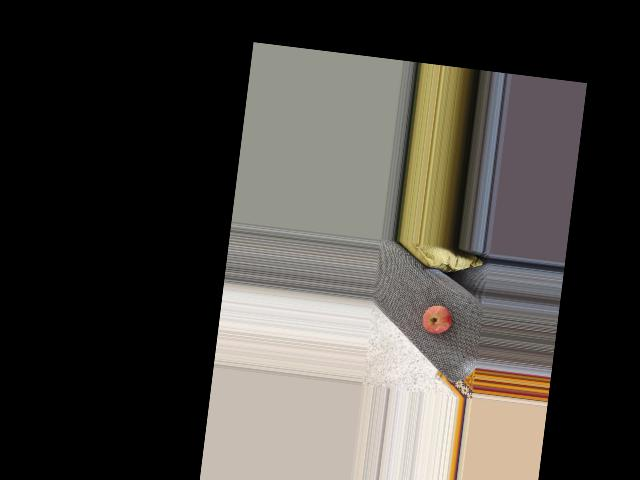apple: (422, 300, 457, 337)
